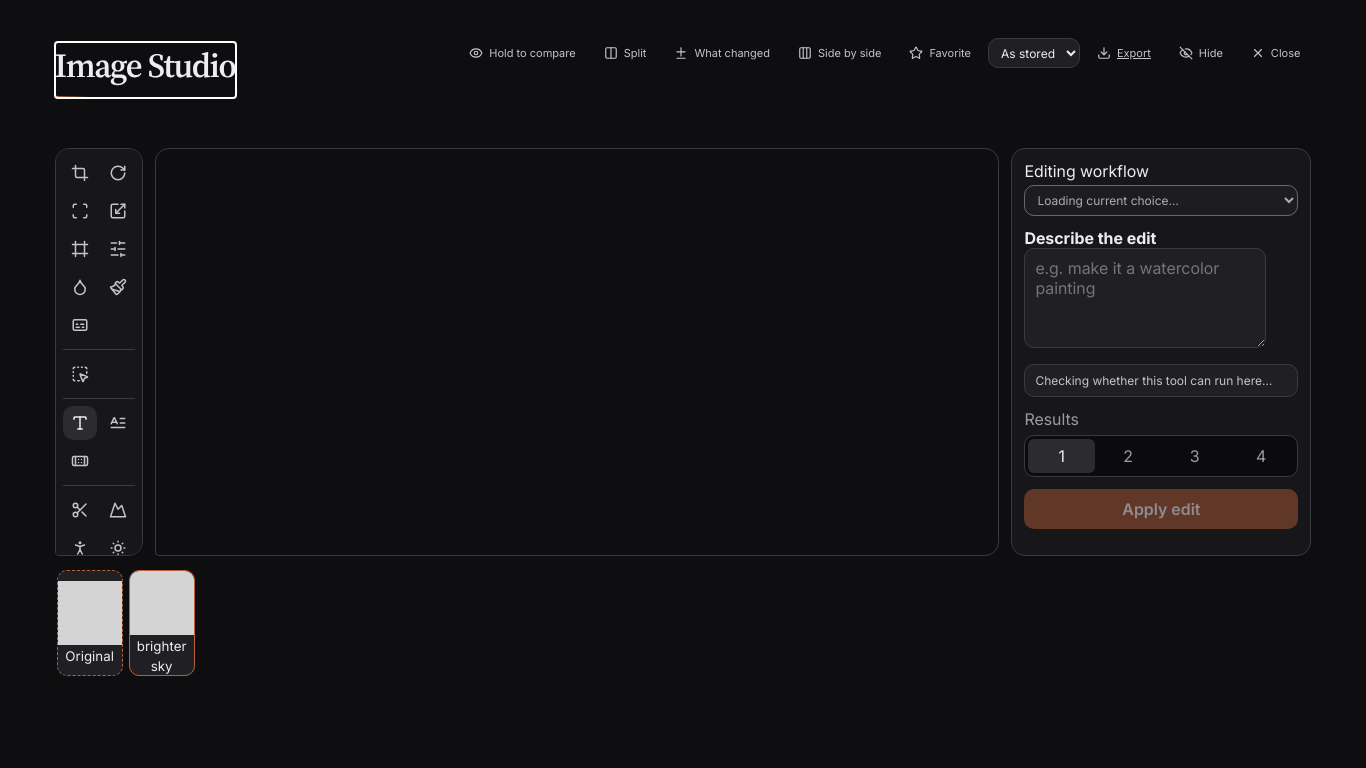
Test case: side by side in the studio › is not offered while a tool marks the picture, which needs the canvas
expect the button "Side by side" is shown: met, box [787, 38, 892, 68]
Click the button named "Select part of the picture" at [80, 374], box [63, 357, 97, 391]
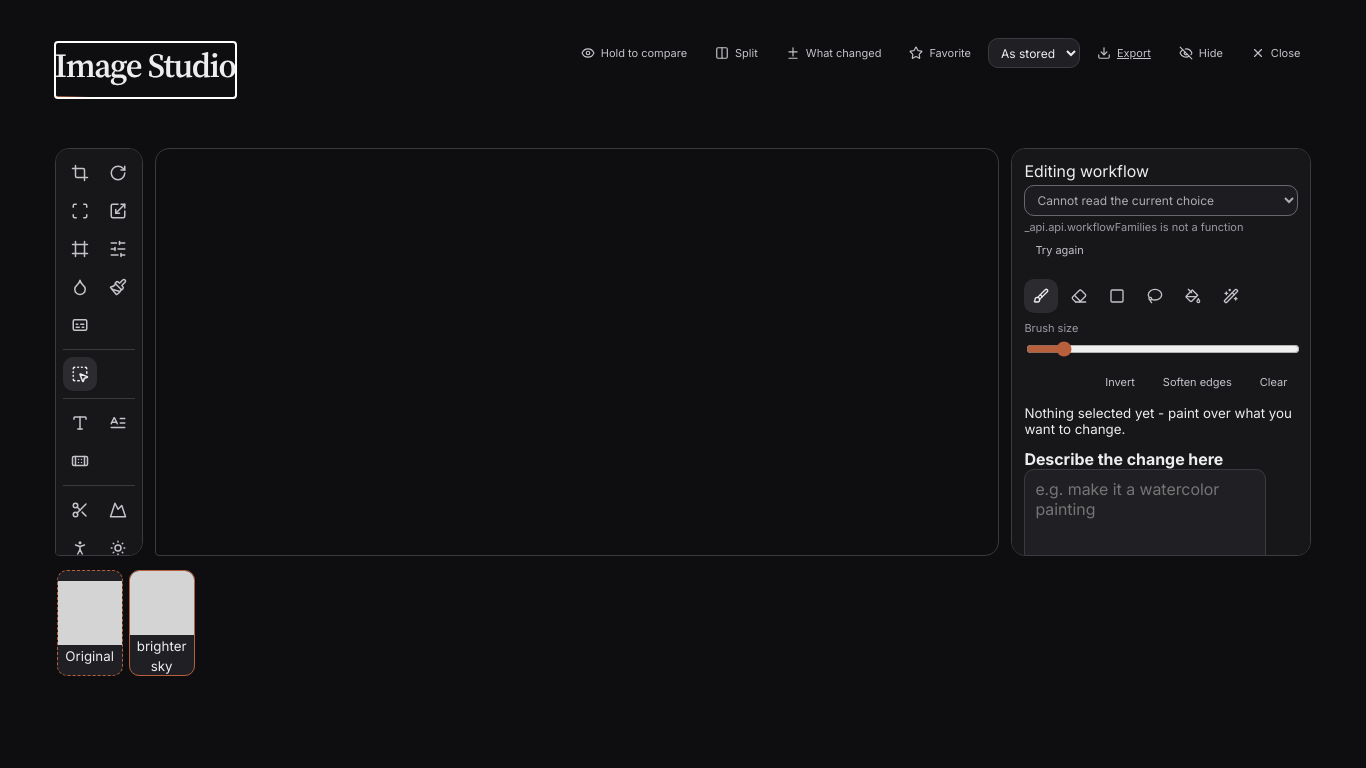
expect the element named "Image editing canvas" is shown: met, box [156, 149, 556, 349]
expect the button "Side by side" is gone: met
